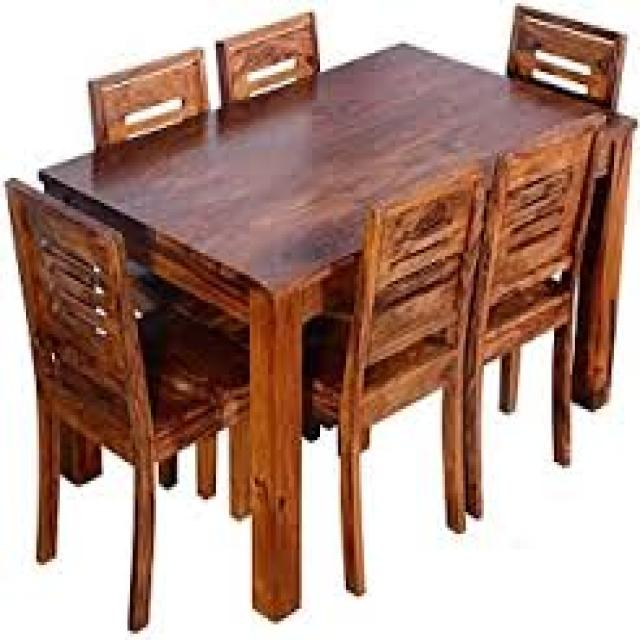obstacle: (72, 37, 639, 340), (1, 120, 223, 561), (314, 175, 484, 563), (499, 100, 600, 520)
